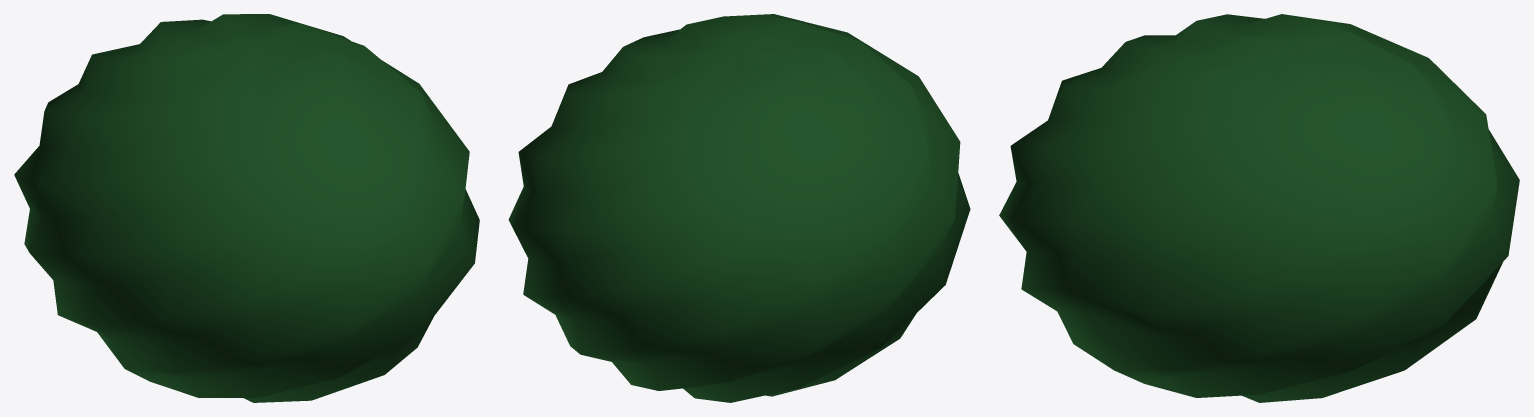
The model's file is Bush.fbx.
The picture shows the model from 3 angles, left to right: view 1: azimuth 30°, elevation 25°; view 2: azimuth 150°, elevation 25°; view 3: azimuth 270°, elevation 25°; orthographic projection. The views are drawn at different scales.
Parts seen in each view (by area): view 1: Foliage1; view 2: Foliage1; view 3: Foliage1.
Part boxes in pixels (x1,y1,x2,y2): Foliage1: [14, 14, 479, 402]; Foliage1: [508, 14, 970, 402]; Foliage1: [999, 14, 1519, 402].
Bounding box in the file's own units: 2.42 × 1.98 × 2.75.
